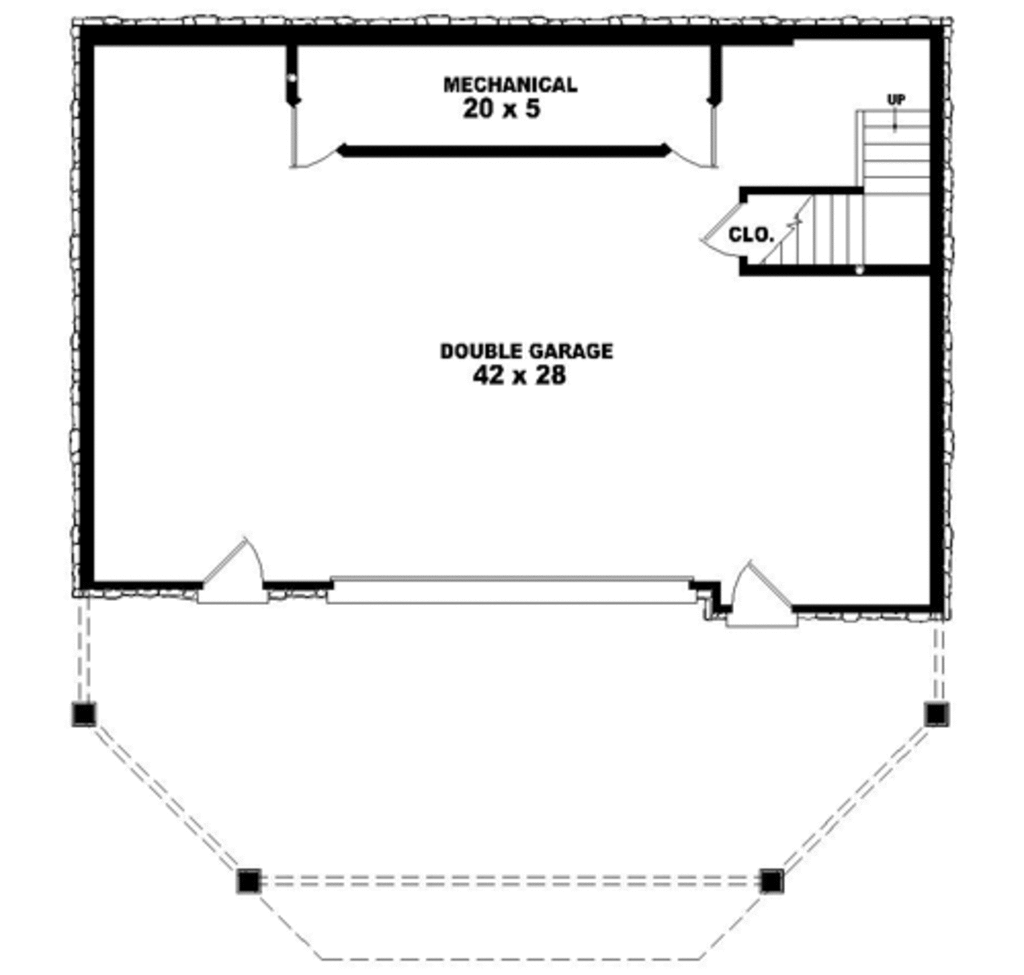door: (184, 527, 290, 604), (723, 556, 802, 635), (276, 96, 342, 174), (663, 99, 729, 169), (700, 187, 754, 259)
stairs: (760, 83, 927, 278)
